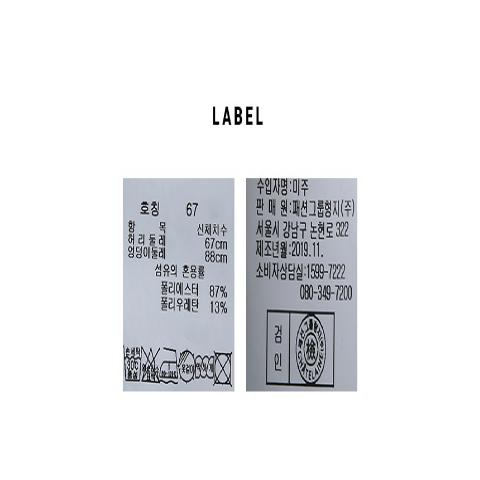DN_bleach: (140, 346, 162, 383)
DN_tumble_dry: (212, 349, 235, 386)
hand_wash: (122, 343, 145, 383)
iron_low: (159, 344, 182, 384)
line_dry_in_shade: (177, 350, 197, 383)
wring: (192, 353, 218, 381)
